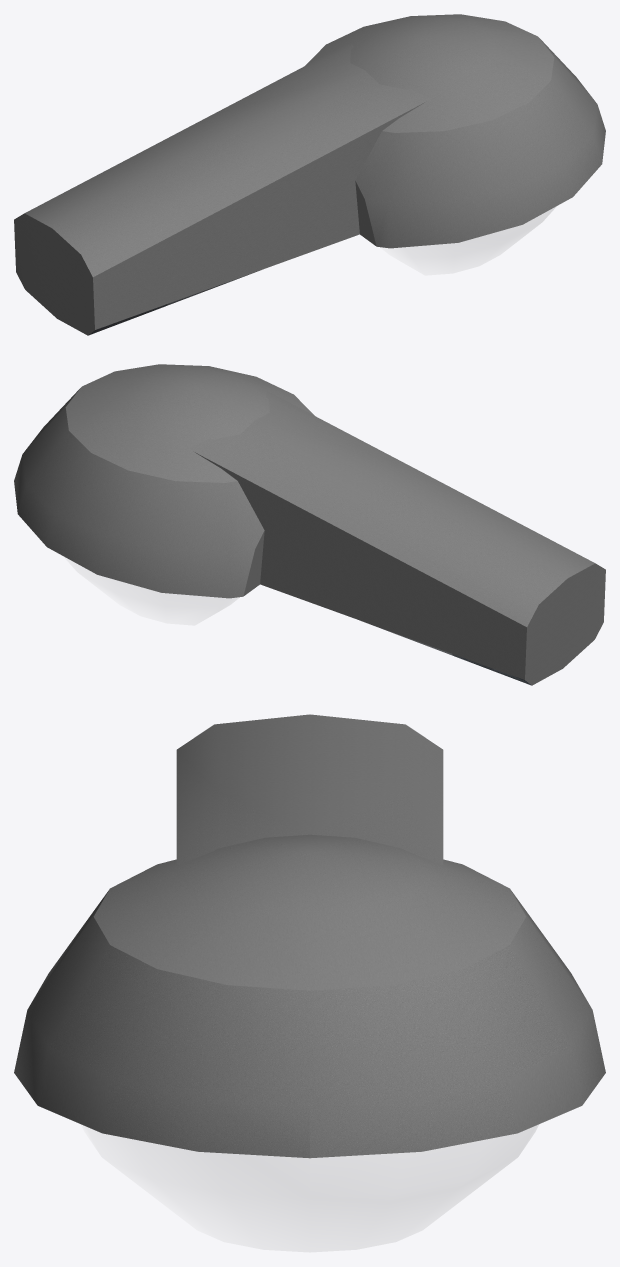
The model's file is Stradasole_400.glb.
3 renders of one model, top to bottom at view 1: azimuth 30°, elevation 25°; view 2: azimuth 150°, elevation 25°; view 3: azimuth 270°, elevation 25°, orthographic. The views are drawn at different scales.
Visible parts, largest first — view 1: Stradasole 400; view 2: Stradasole 400; view 3: Stradasole 400.
Part boxes in pixels (bbox=[...]): Stradasole 400: bbox=[14, 14, 605, 335]; Stradasole 400: bbox=[14, 364, 605, 685]; Stradasole 400: bbox=[14, 714, 605, 1251].
Size of the model in its own units: 0.723 by 0.2897 by 0.413.
3 materials, 2 textured.
